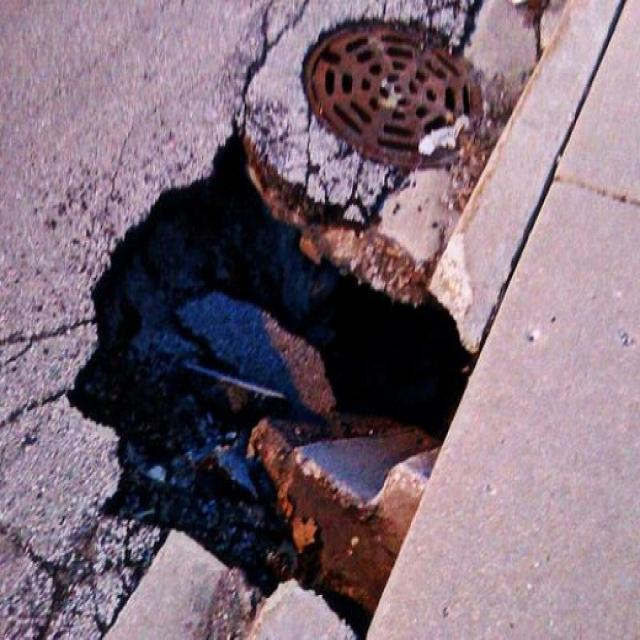pothole: (57, 121, 492, 637)
